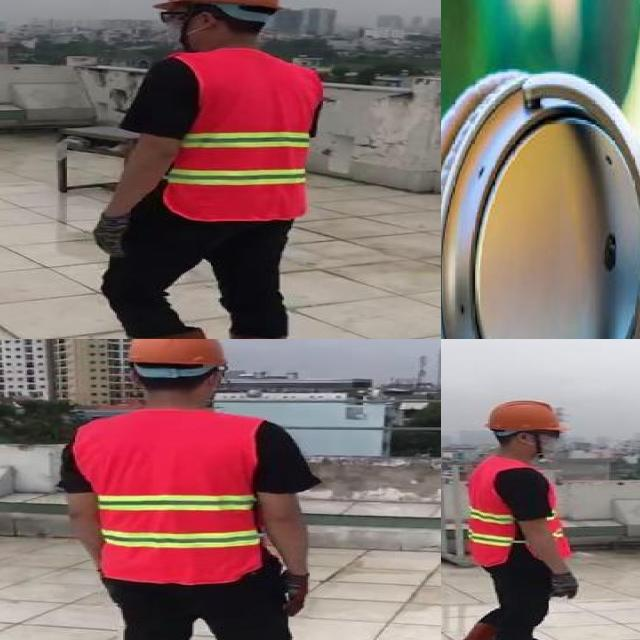Ear-protection: (441, 67, 640, 339)
boots: (441, 624, 493, 640)
face_mask: (520, 426, 565, 458)
hand_glove: (90, 213, 133, 257), (276, 573, 310, 616), (548, 570, 580, 600)
head_helmet: (117, 339, 236, 371), (481, 398, 572, 435), (145, 0, 287, 15)
person: (70, 0, 349, 339), (58, 339, 351, 640), (441, 397, 592, 640)
vest: (73, 409, 267, 583), (166, 49, 320, 221), (463, 457, 572, 566)
